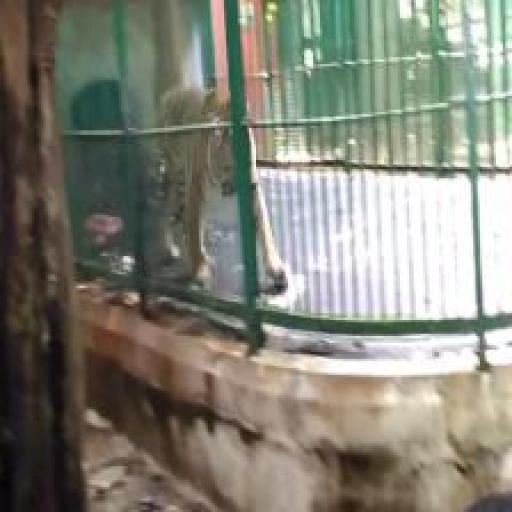Tiger: (149, 87, 298, 302)
